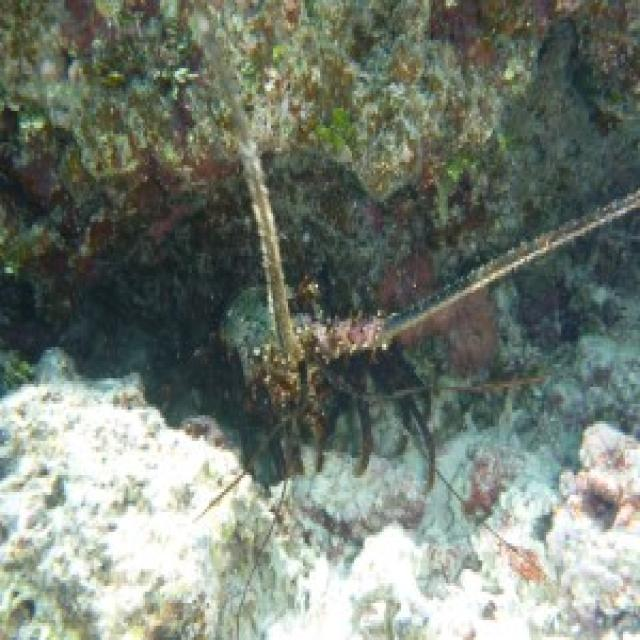lobsters: (169, 124, 591, 465)
